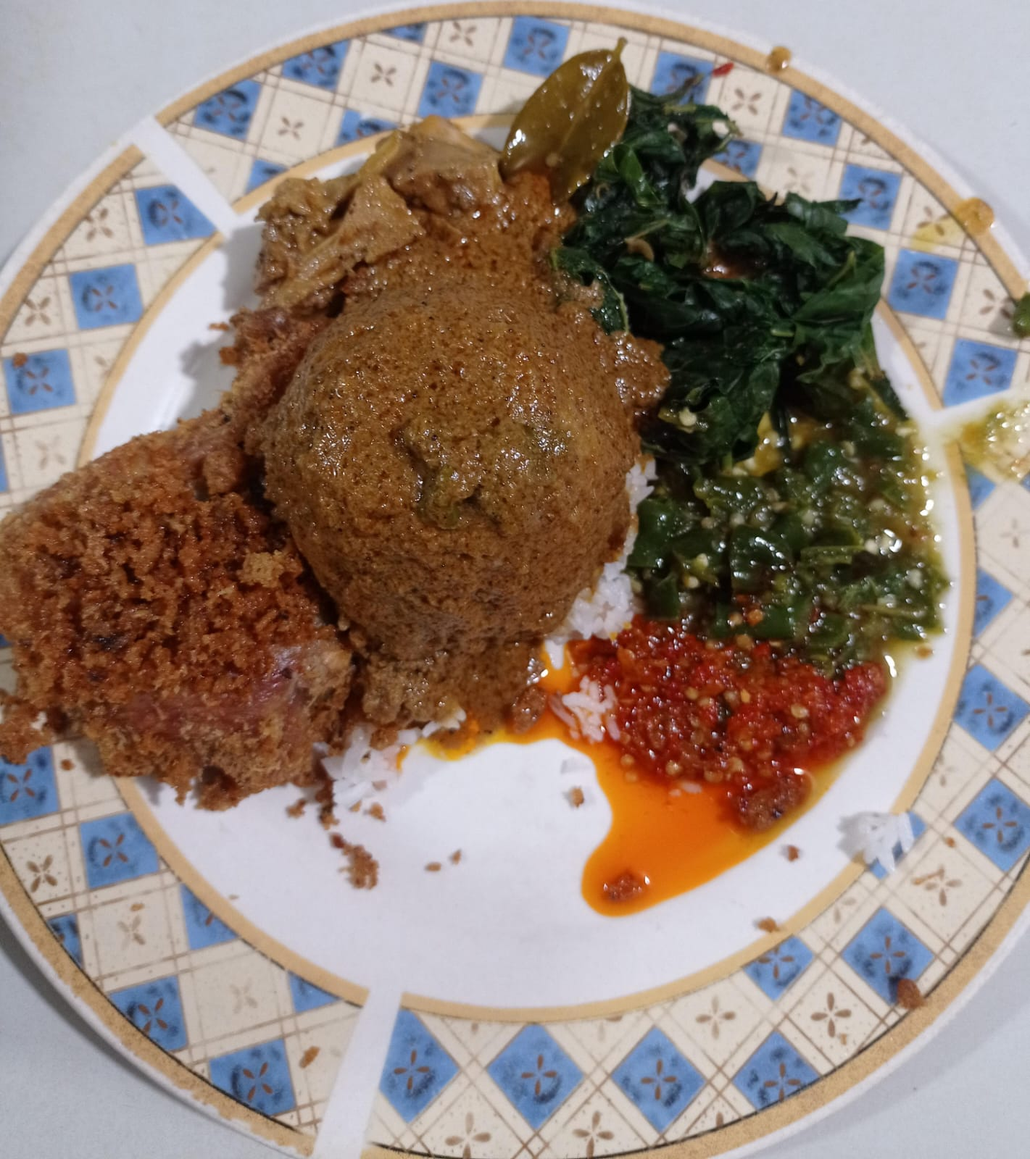buah_sayur_lainnya: (602, 145, 890, 449)
daging: (20, 443, 290, 765)
